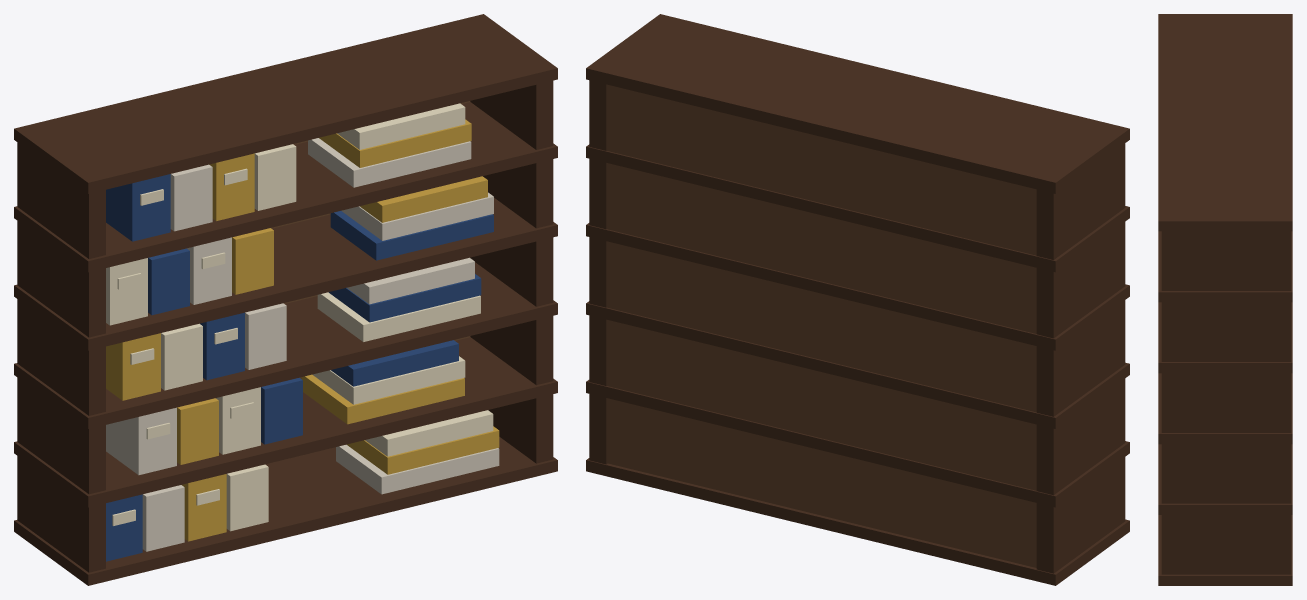
File: fn_bookcase.glb
3 views of the same model, side by side, from view 1: azimuth 30°, elevation 25°; view 2: azimuth 150°, elevation 25°; view 3: azimuth 270°, elevation 25° (orthographic). The views are drawn at different scales.
Visible parts, largest first — view 1: fn_bookcase__wood_dark, fn_bookcase__paper, fn_bookcase__cloth_white, fn_bookcase__cloth_yellow, fn_bookcase__cloth_blue; view 2: fn_bookcase__plank, fn_bookcase__wood_dark; view 3: fn_bookcase__wood_dark.
Boxes of the visible parts, x1,y1,x2,y2 form: fn_bookcase__wood_dark: [14, 14, 557, 585]; fn_bookcase__paper: [106, 103, 493, 531]; fn_bookcase__cloth_white: [106, 138, 499, 551]; fn_bookcase__cloth_yellow: [106, 119, 499, 541]; fn_bookcase__cloth_blue: [106, 174, 493, 561]; fn_bookcase__plank: [606, 84, 1036, 567]; fn_bookcase__wood_dark: [586, 14, 1129, 585]; fn_bookcase__wood_dark: [1158, 14, 1292, 585].
Size of the model in its own units: 21.95 by 18 by 6.
